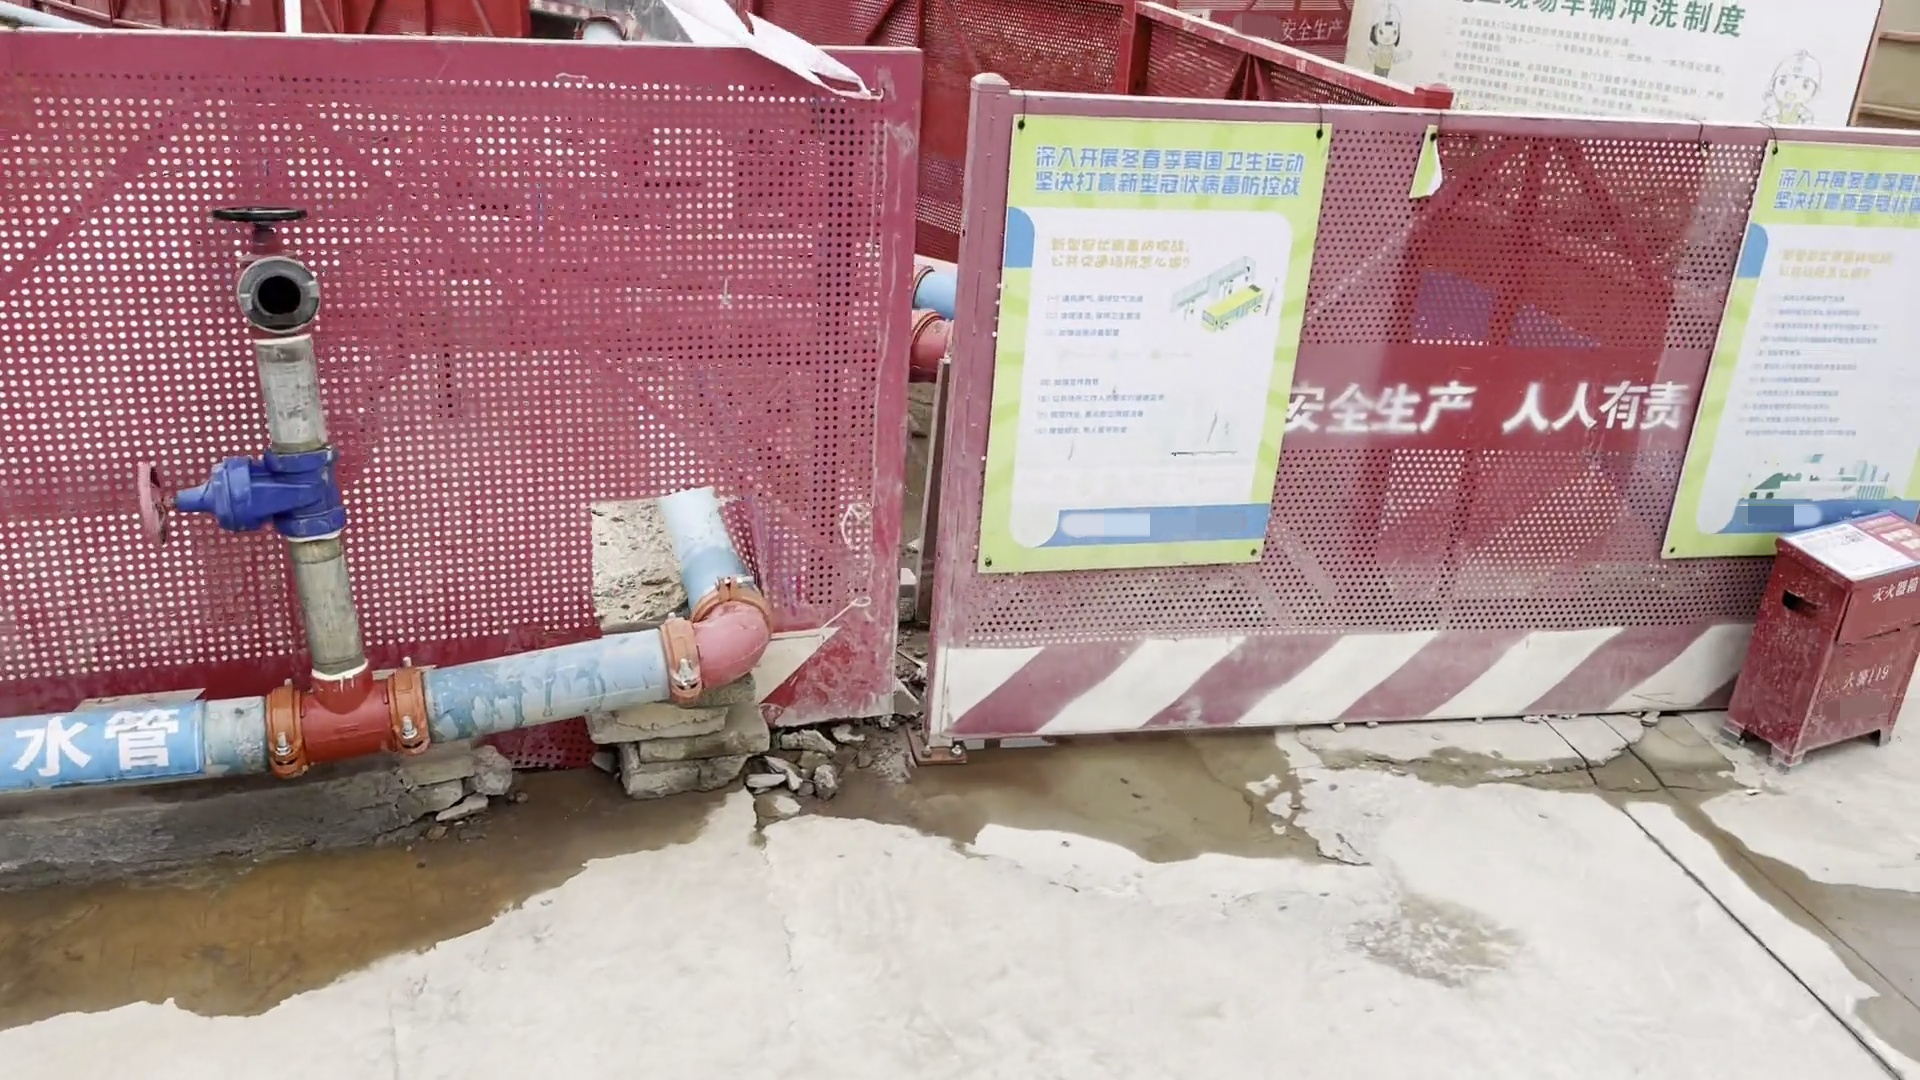fence: (1, 45, 1919, 779)
slogan: (986, 119, 1294, 564), (1689, 142, 1920, 574), (1282, 372, 1685, 440)
